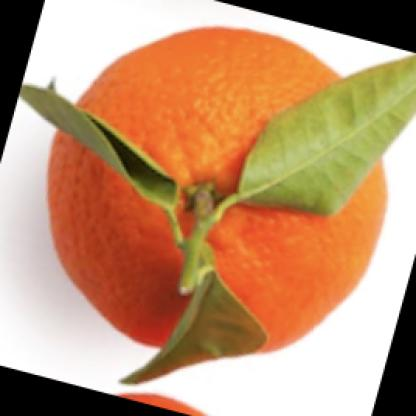fresh: (48, 26, 392, 365)
